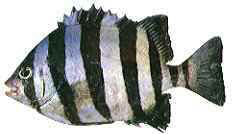azi: (10, 12, 219, 128)
